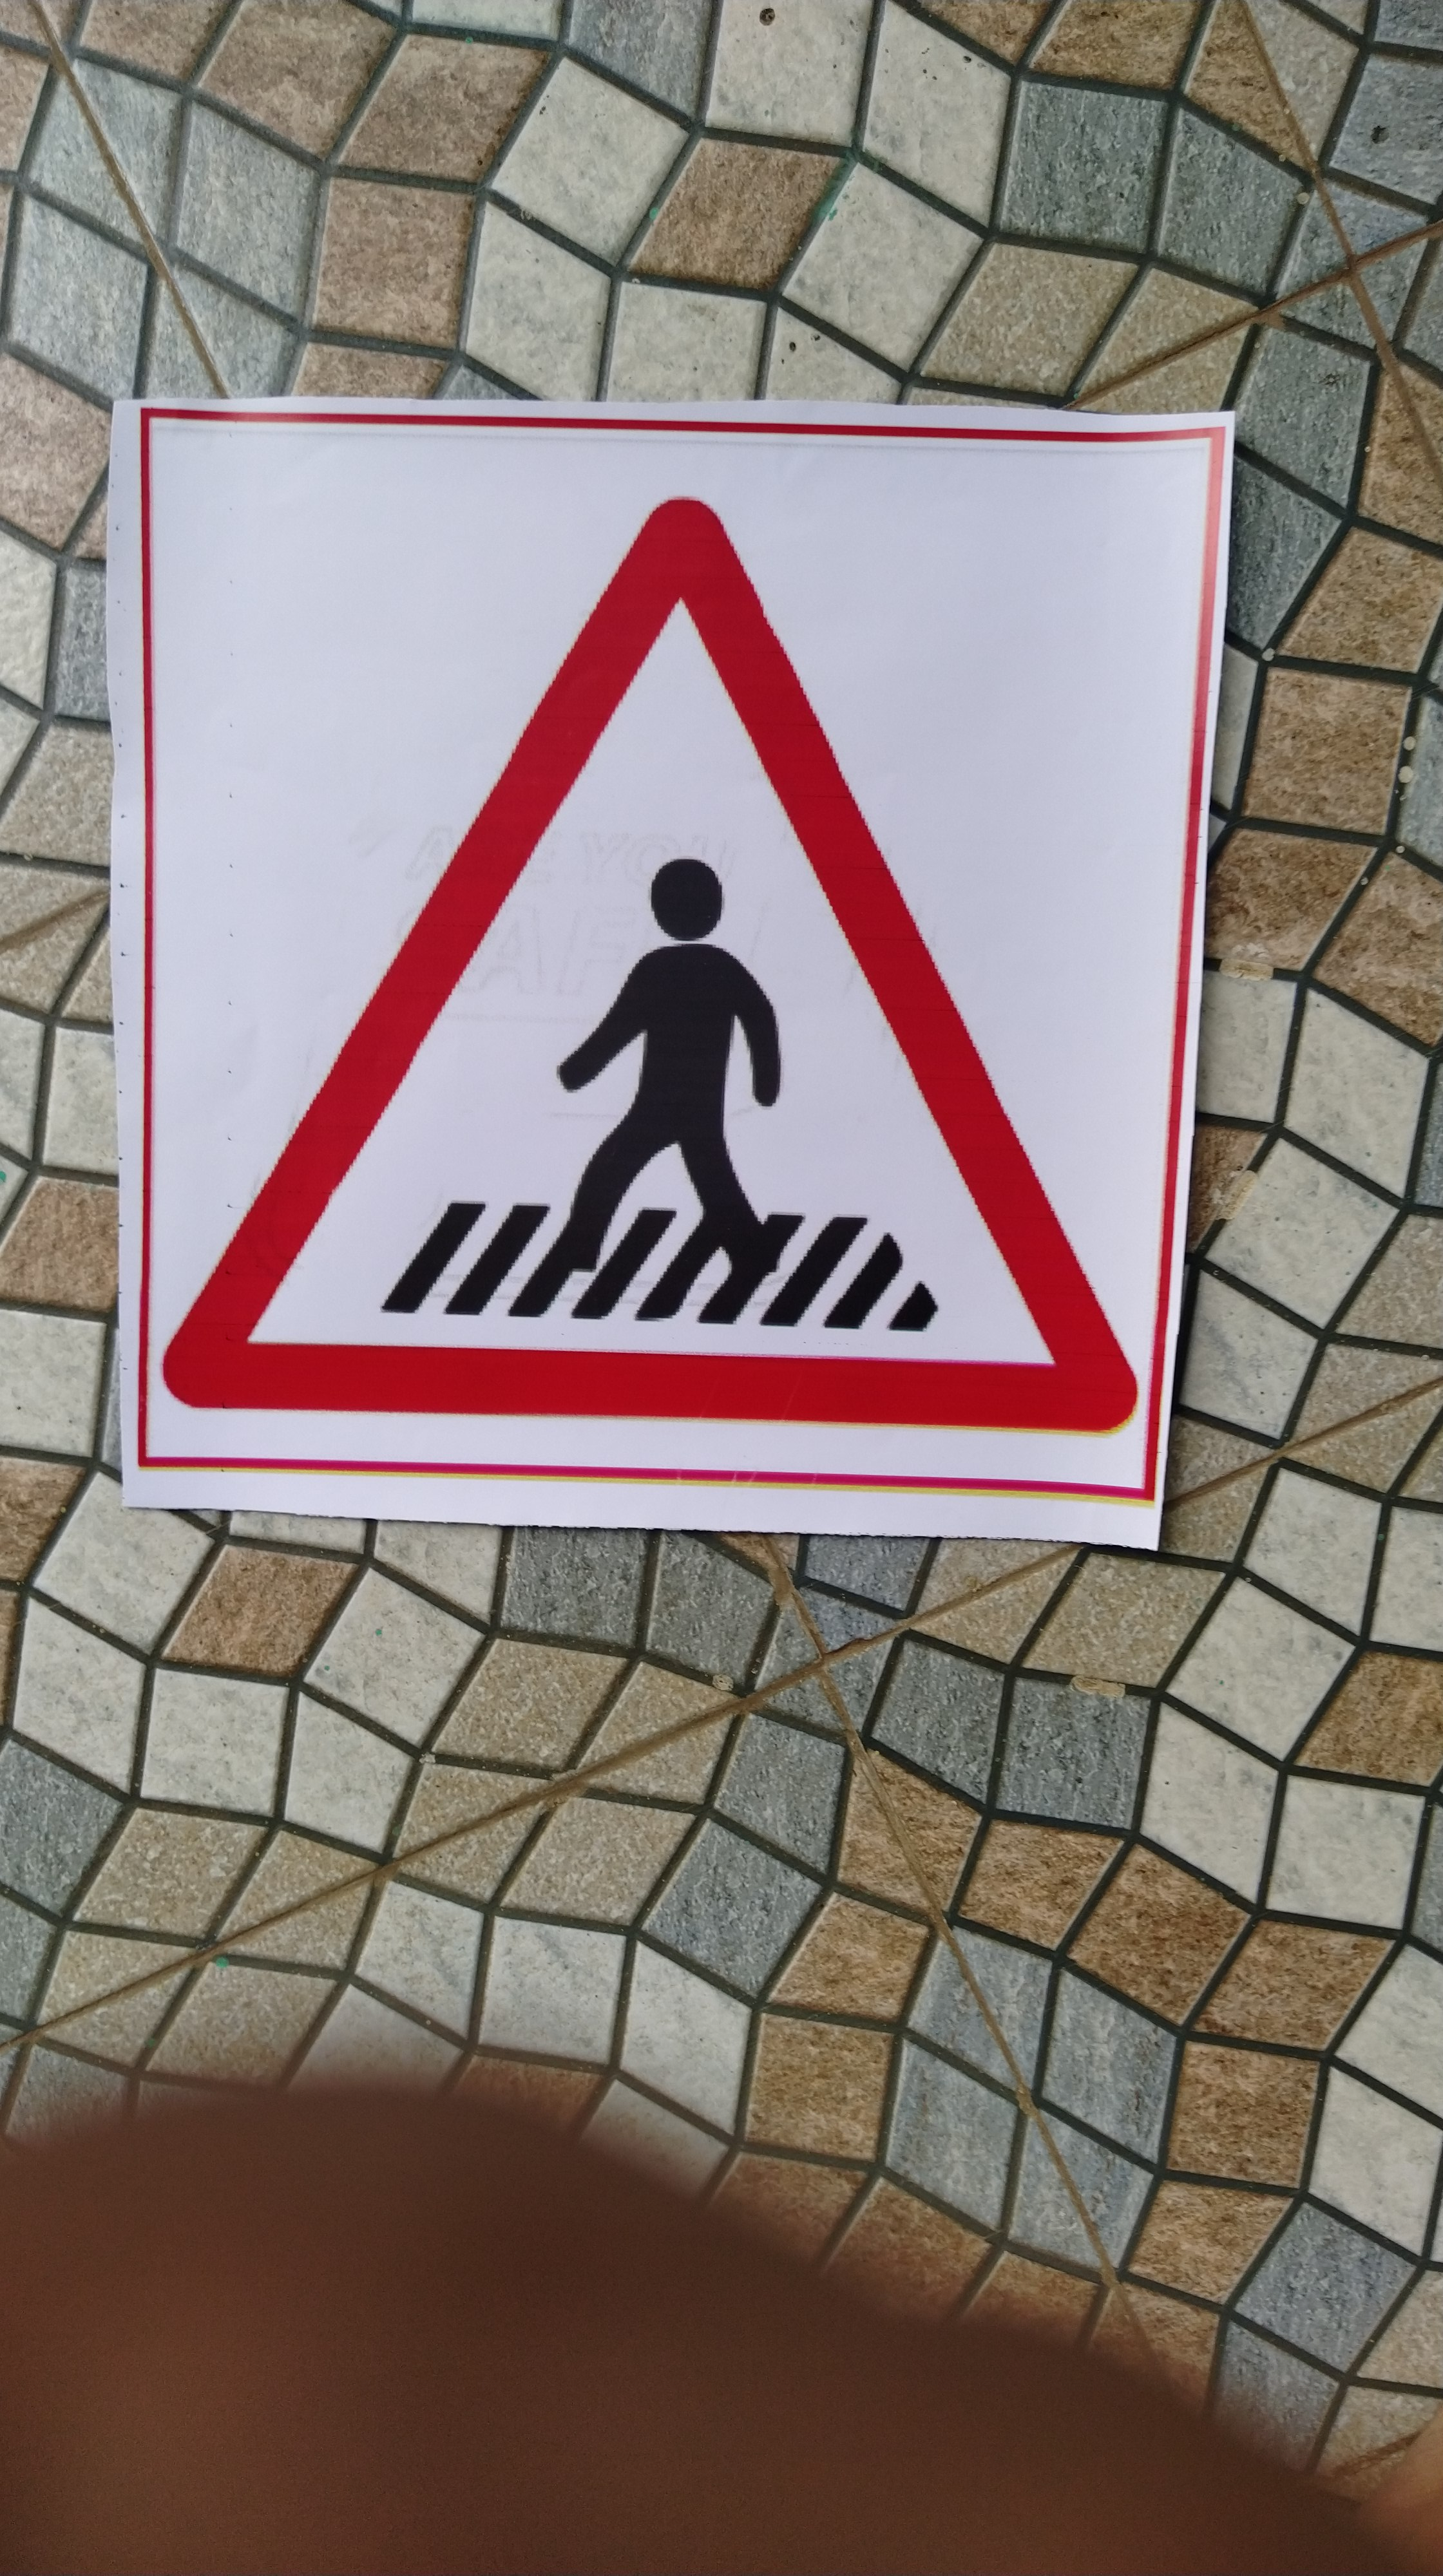pedestrain crossing: (138, 423, 1184, 1525)
